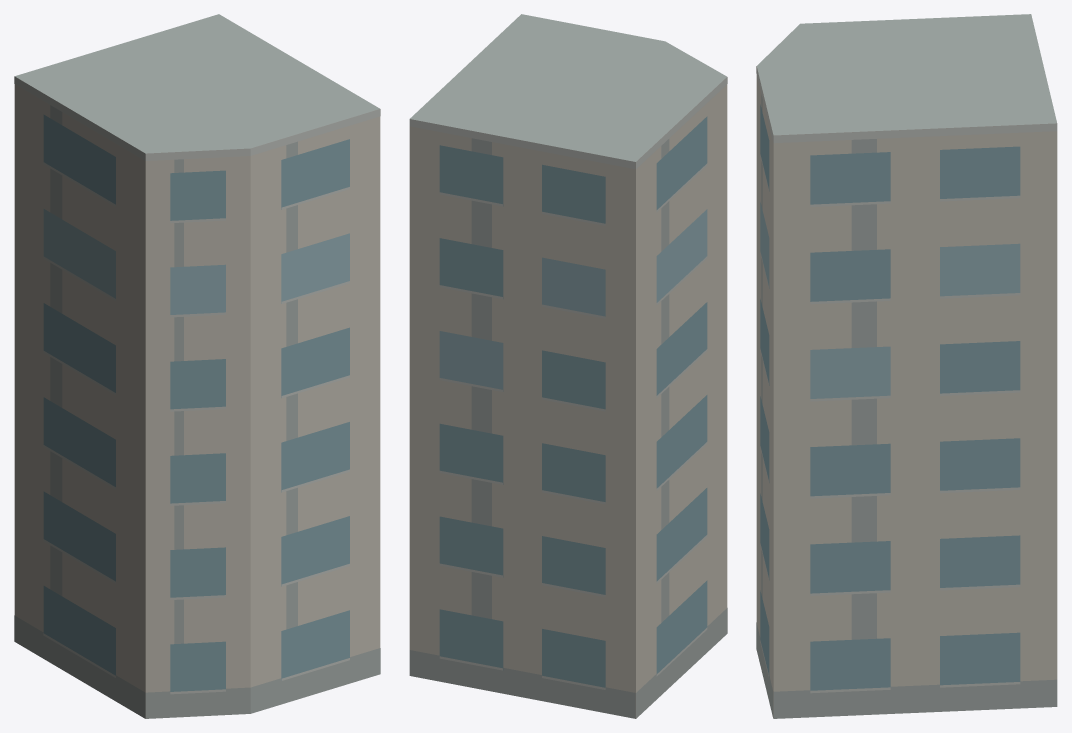
File: survey-upis-32690144.glb
3 renders of one model, left to right at view 1: azimuth 30°, elevation 25°; view 2: azimuth 150°, elevation 25°; view 3: azimuth 270°, elevation 25°, orthographic. The views are drawn at different scales.
Visible parts, largest first — view 1: survey-upis-32690144.tmp; view 2: survey-upis-32690144.tmp; view 3: survey-upis-32690144.tmp.
Part boxes in pixels (x1,y1,x2,y2): survey-upis-32690144.tmp: (14, 14, 380, 718); survey-upis-32690144.tmp: (409, 14, 727, 718); survey-upis-32690144.tmp: (756, 14, 1057, 718).
Bounding box in the file's own units: 8.18 × 18.3 × 8.56.
